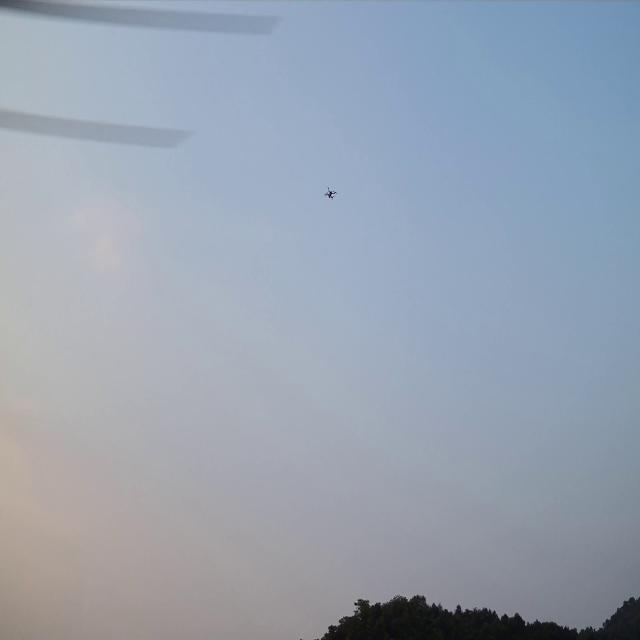UAV: (324, 185, 336, 201)
